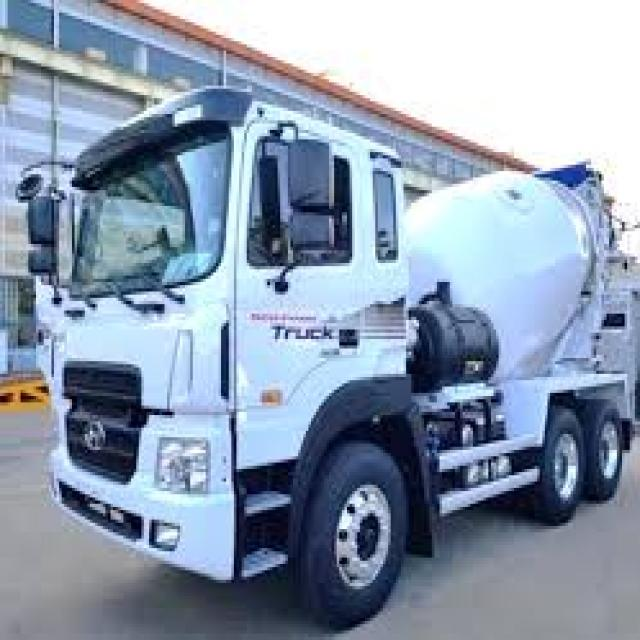Mixer Truck: (15, 81, 632, 626)
